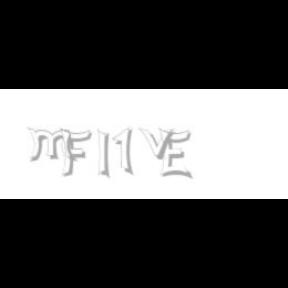1: (112, 128, 134, 176)
E: (158, 128, 191, 180)
F: (59, 128, 91, 178)
I: (98, 128, 110, 180)
m: (26, 128, 78, 162)
v: (138, 128, 178, 160)
